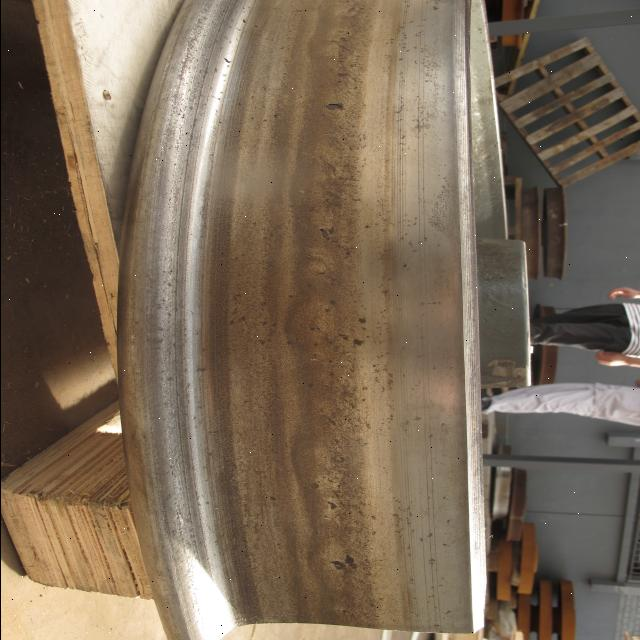fatigue crack: (322, 100, 348, 116)
